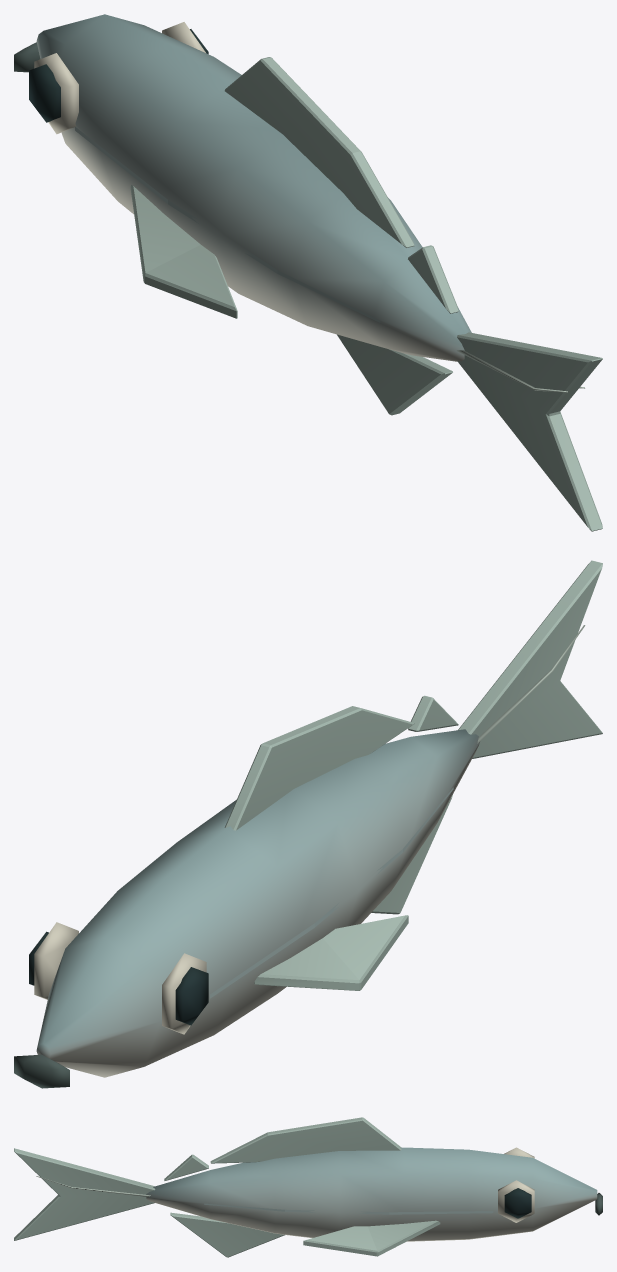
The model's file is fish_smelt_low.glb.
3 views of the same model, one above another, from view 1: azimuth 30°, elevation 25°; view 2: azimuth 150°, elevation 25°; view 3: azimuth 270°, elevation 25° (orthographic). The views are drawn at different scales.
Bounding box in the file's own units: 0.0223 × 0.0259 × 0.0999.
